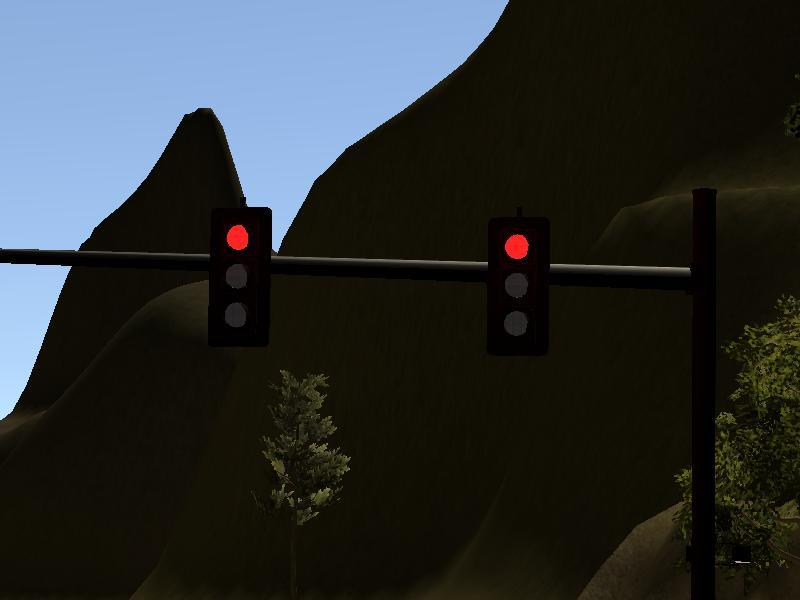Red: (208, 207, 270, 347), (487, 218, 550, 355)
